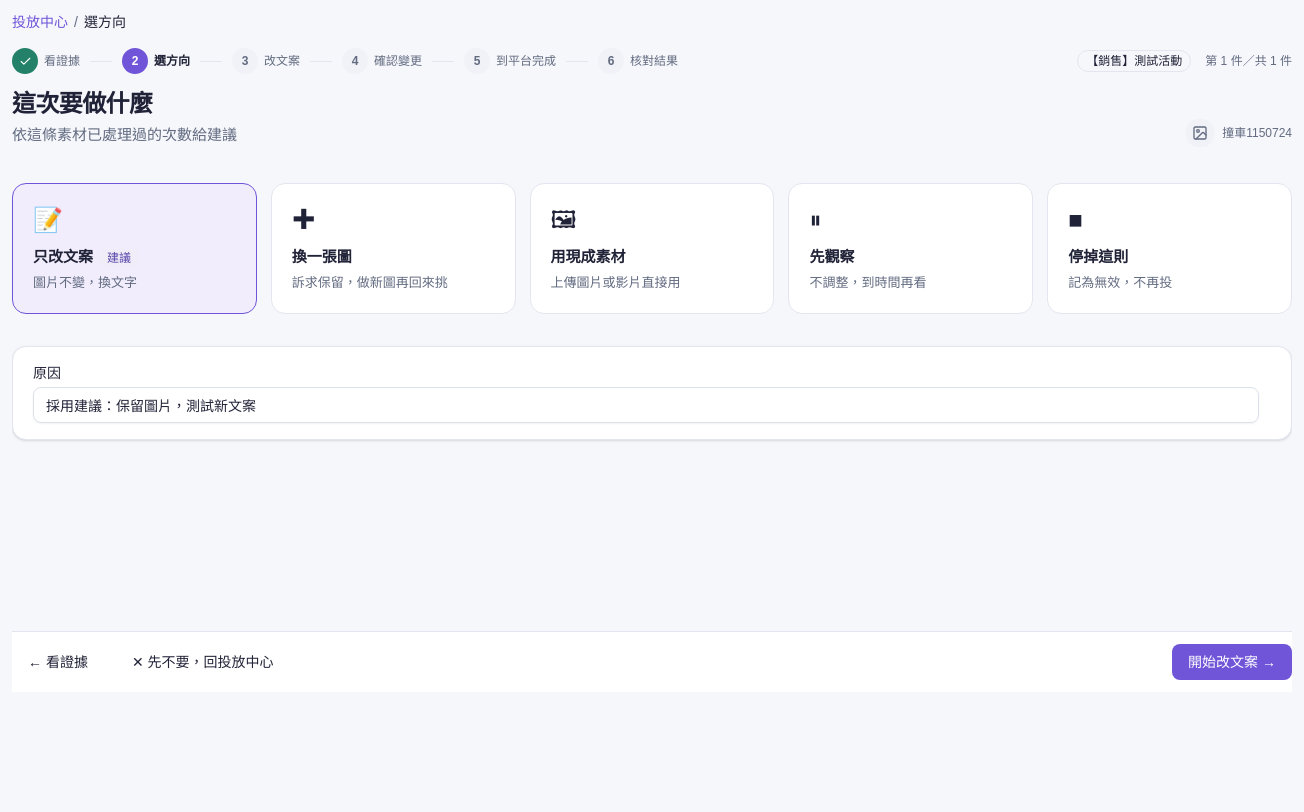
Test case: PreparePage（F27-I12）建議與預選 › 換方向重填原因為新方向的預設值
Expected: the field showing "採用建議：保留圖片，測試新文案" is shown, [33,387,1259,423]
Click the button "✚ 換一張圖 訴求保留，做新圖再回來挑": click(393, 248) [271,182,516,314]
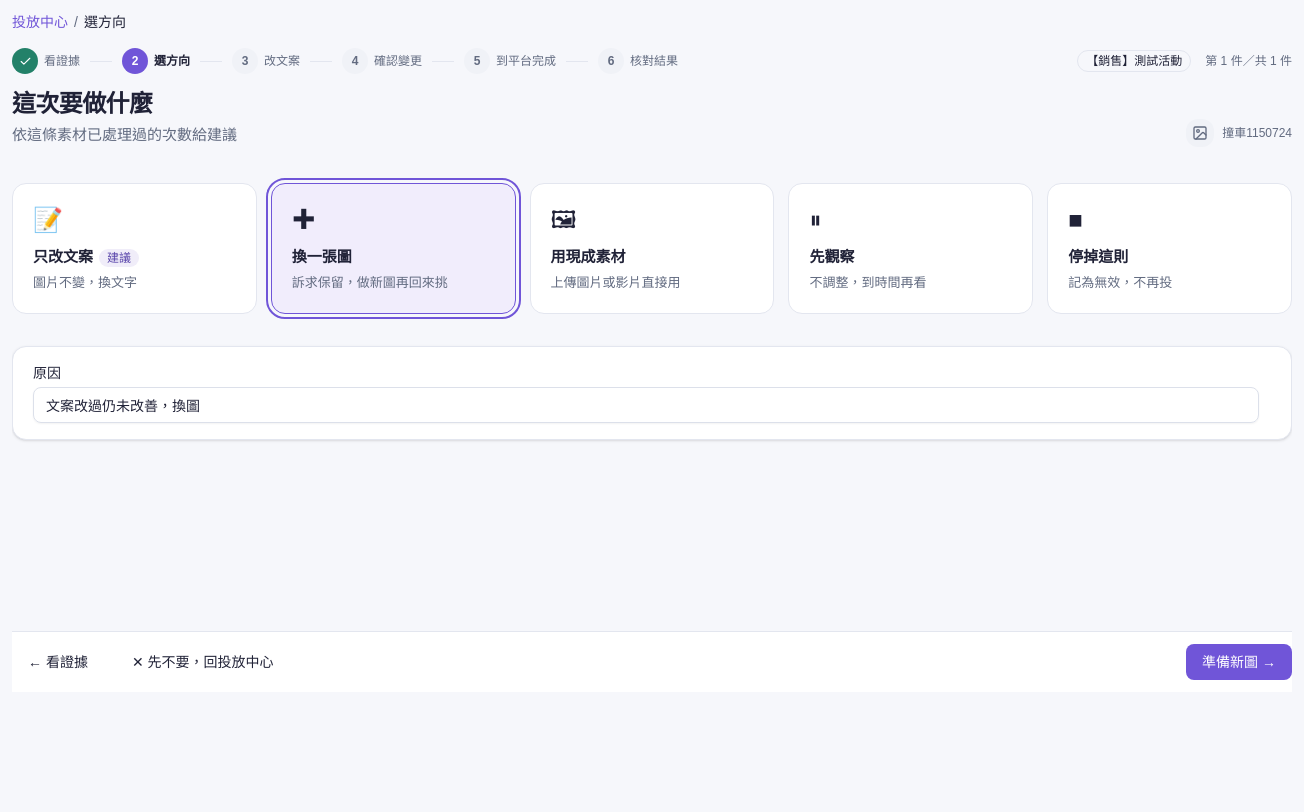
Expected: the field showing "文案改過仍未改善，換圖" is shown, [33,387,1259,423]
Expected: the button "準備新圖 →" is shown, [1186,644,1292,680]
Click the button "🖼 用現成素材 上傳圖片或影片直接用": click(652, 248) [530,182,774,314]
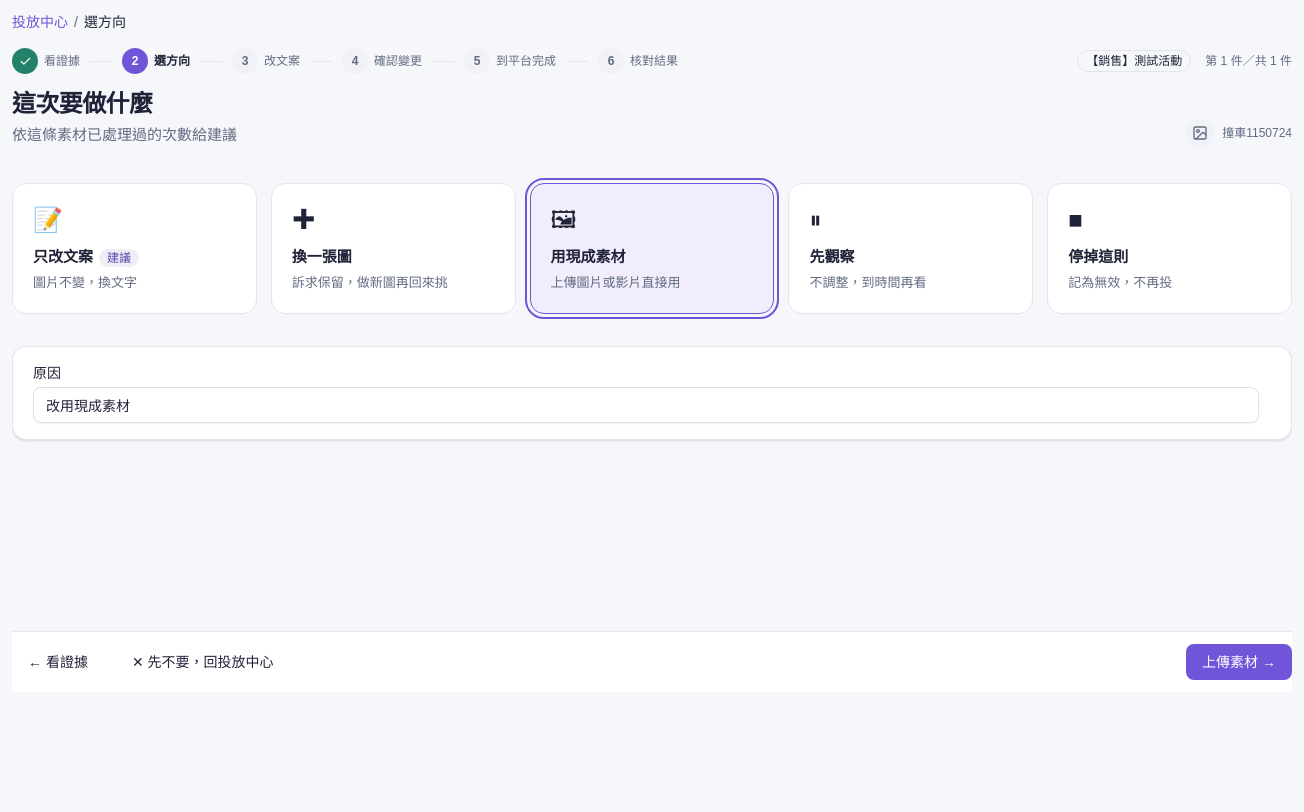
Expected: the field showing "改用現成素材" is shown, [33,387,1259,423]
Expected: the button "上傳素材 →" is shown, [1186,644,1292,680]
Click the button "■ 停掉這則 記為無效，不再投": click(1170, 248) [1047,182,1292,314]
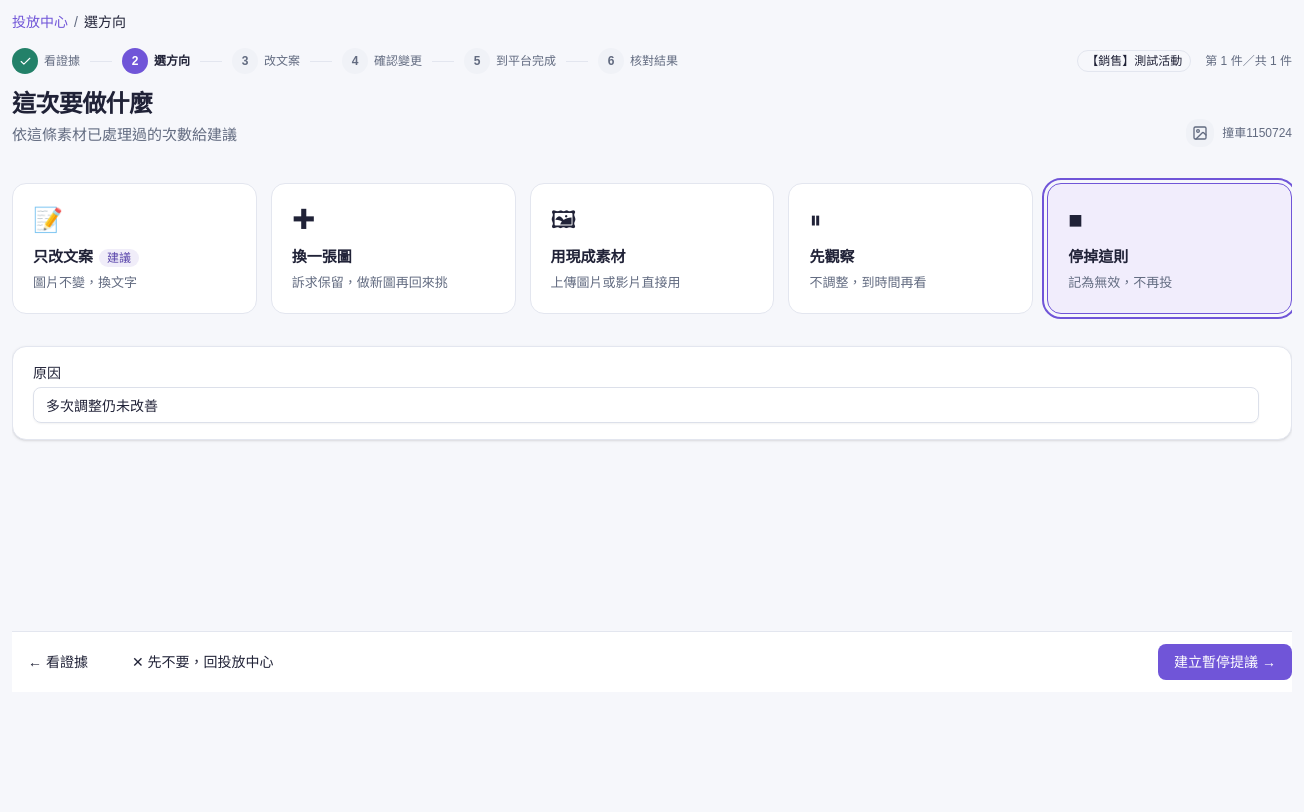
Expected: the field showing "多次調整仍未改善" is shown, [33,387,1259,423]
Expected: the button "建立暫停提議 →" is shown, [1158,644,1292,680]
